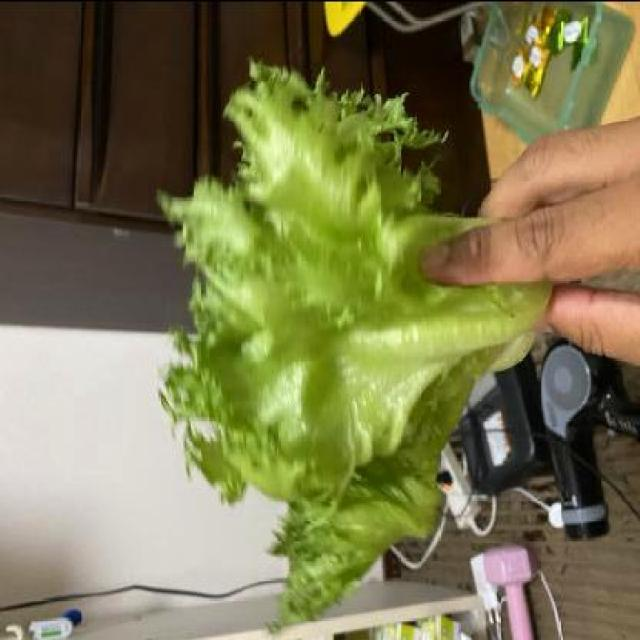Lettuce: (157, 53, 542, 627)
